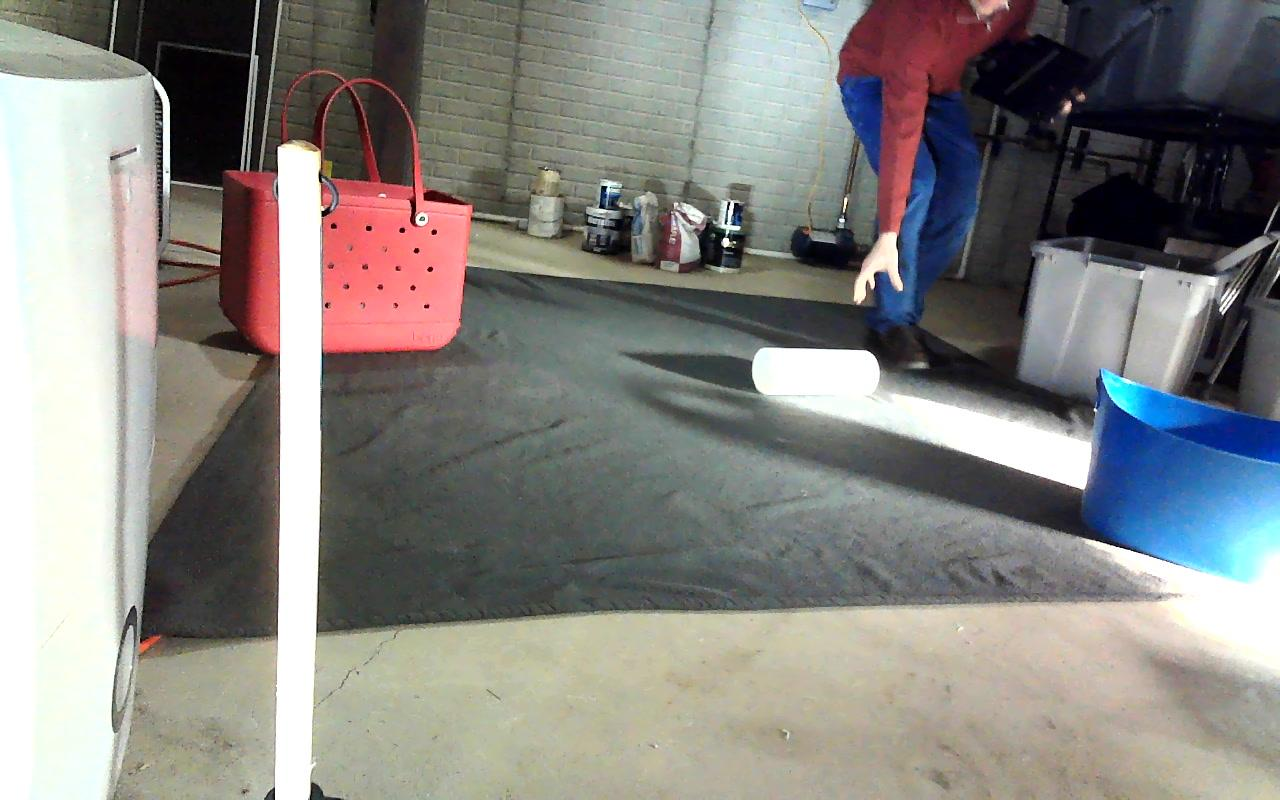coral: (751, 348, 878, 398)
